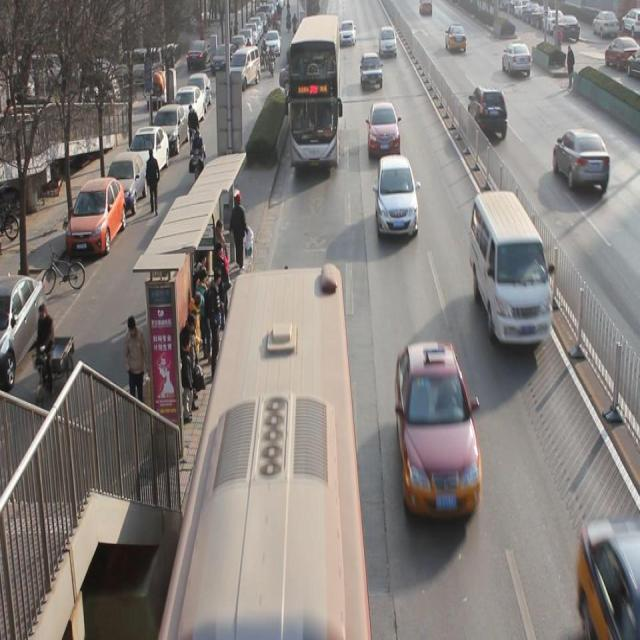car: (394, 350, 484, 519), (555, 128, 612, 194), (376, 159, 420, 237), (367, 101, 401, 161), (469, 86, 508, 138), (284, 62, 327, 101), (500, 43, 532, 78), (358, 55, 382, 88), (378, 28, 398, 57), (448, 28, 467, 54), (339, 22, 357, 44)
truck: (472, 200, 553, 348)
van: (159, 269, 370, 640), (288, 15, 339, 170)
